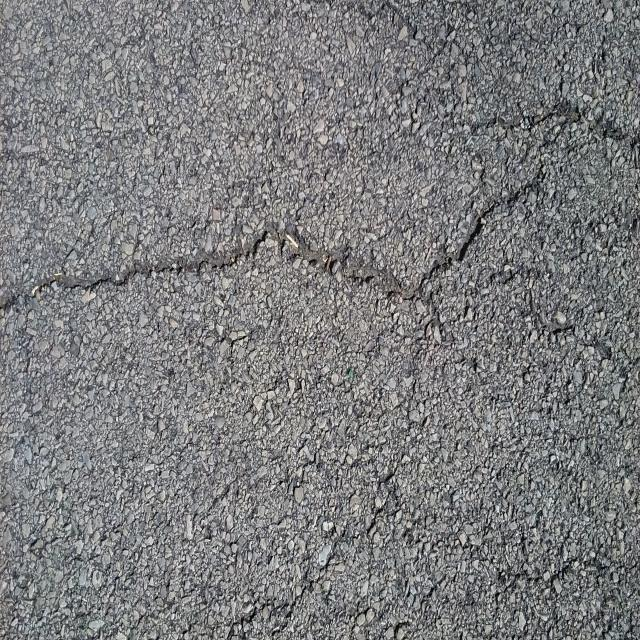transverse: (1, 162, 554, 372)
